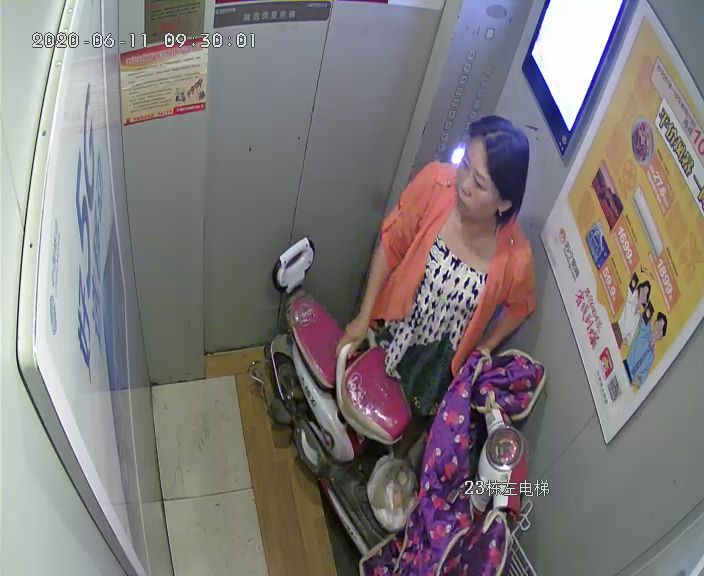Electric-bicycle: (267, 237, 536, 574)
